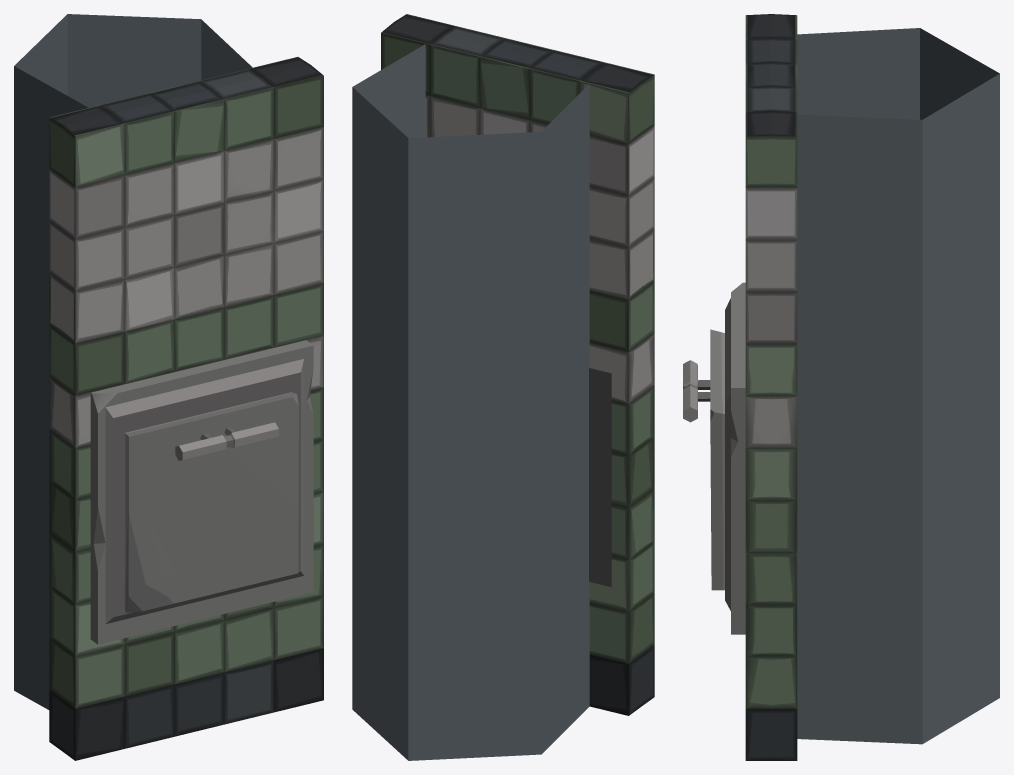
File: SM_Prop_Chute_Wall_01.fbx
3 renders of one model, left to right at view 1: azimuth 30°, elevation 25°; view 2: azimuth 150°, elevation 25°; view 3: azimuth 270°, elevation 25°, orthographic.
Visible parts, largest first — view 1: SM_Prop_Chute_Wall_01; view 2: SM_Prop_Chute_Wall_01; view 3: SM_Prop_Chute_Wall_01.
Boxes of the visible parts, x1,y1,x2,y2 form: SM_Prop_Chute_Wall_01: [14, 14, 323, 760]; SM_Prop_Chute_Wall_01: [352, 14, 654, 760]; SM_Prop_Chute_Wall_01: [683, 14, 999, 760].
Size of the model in its own units: 125 by 301 by 138.
